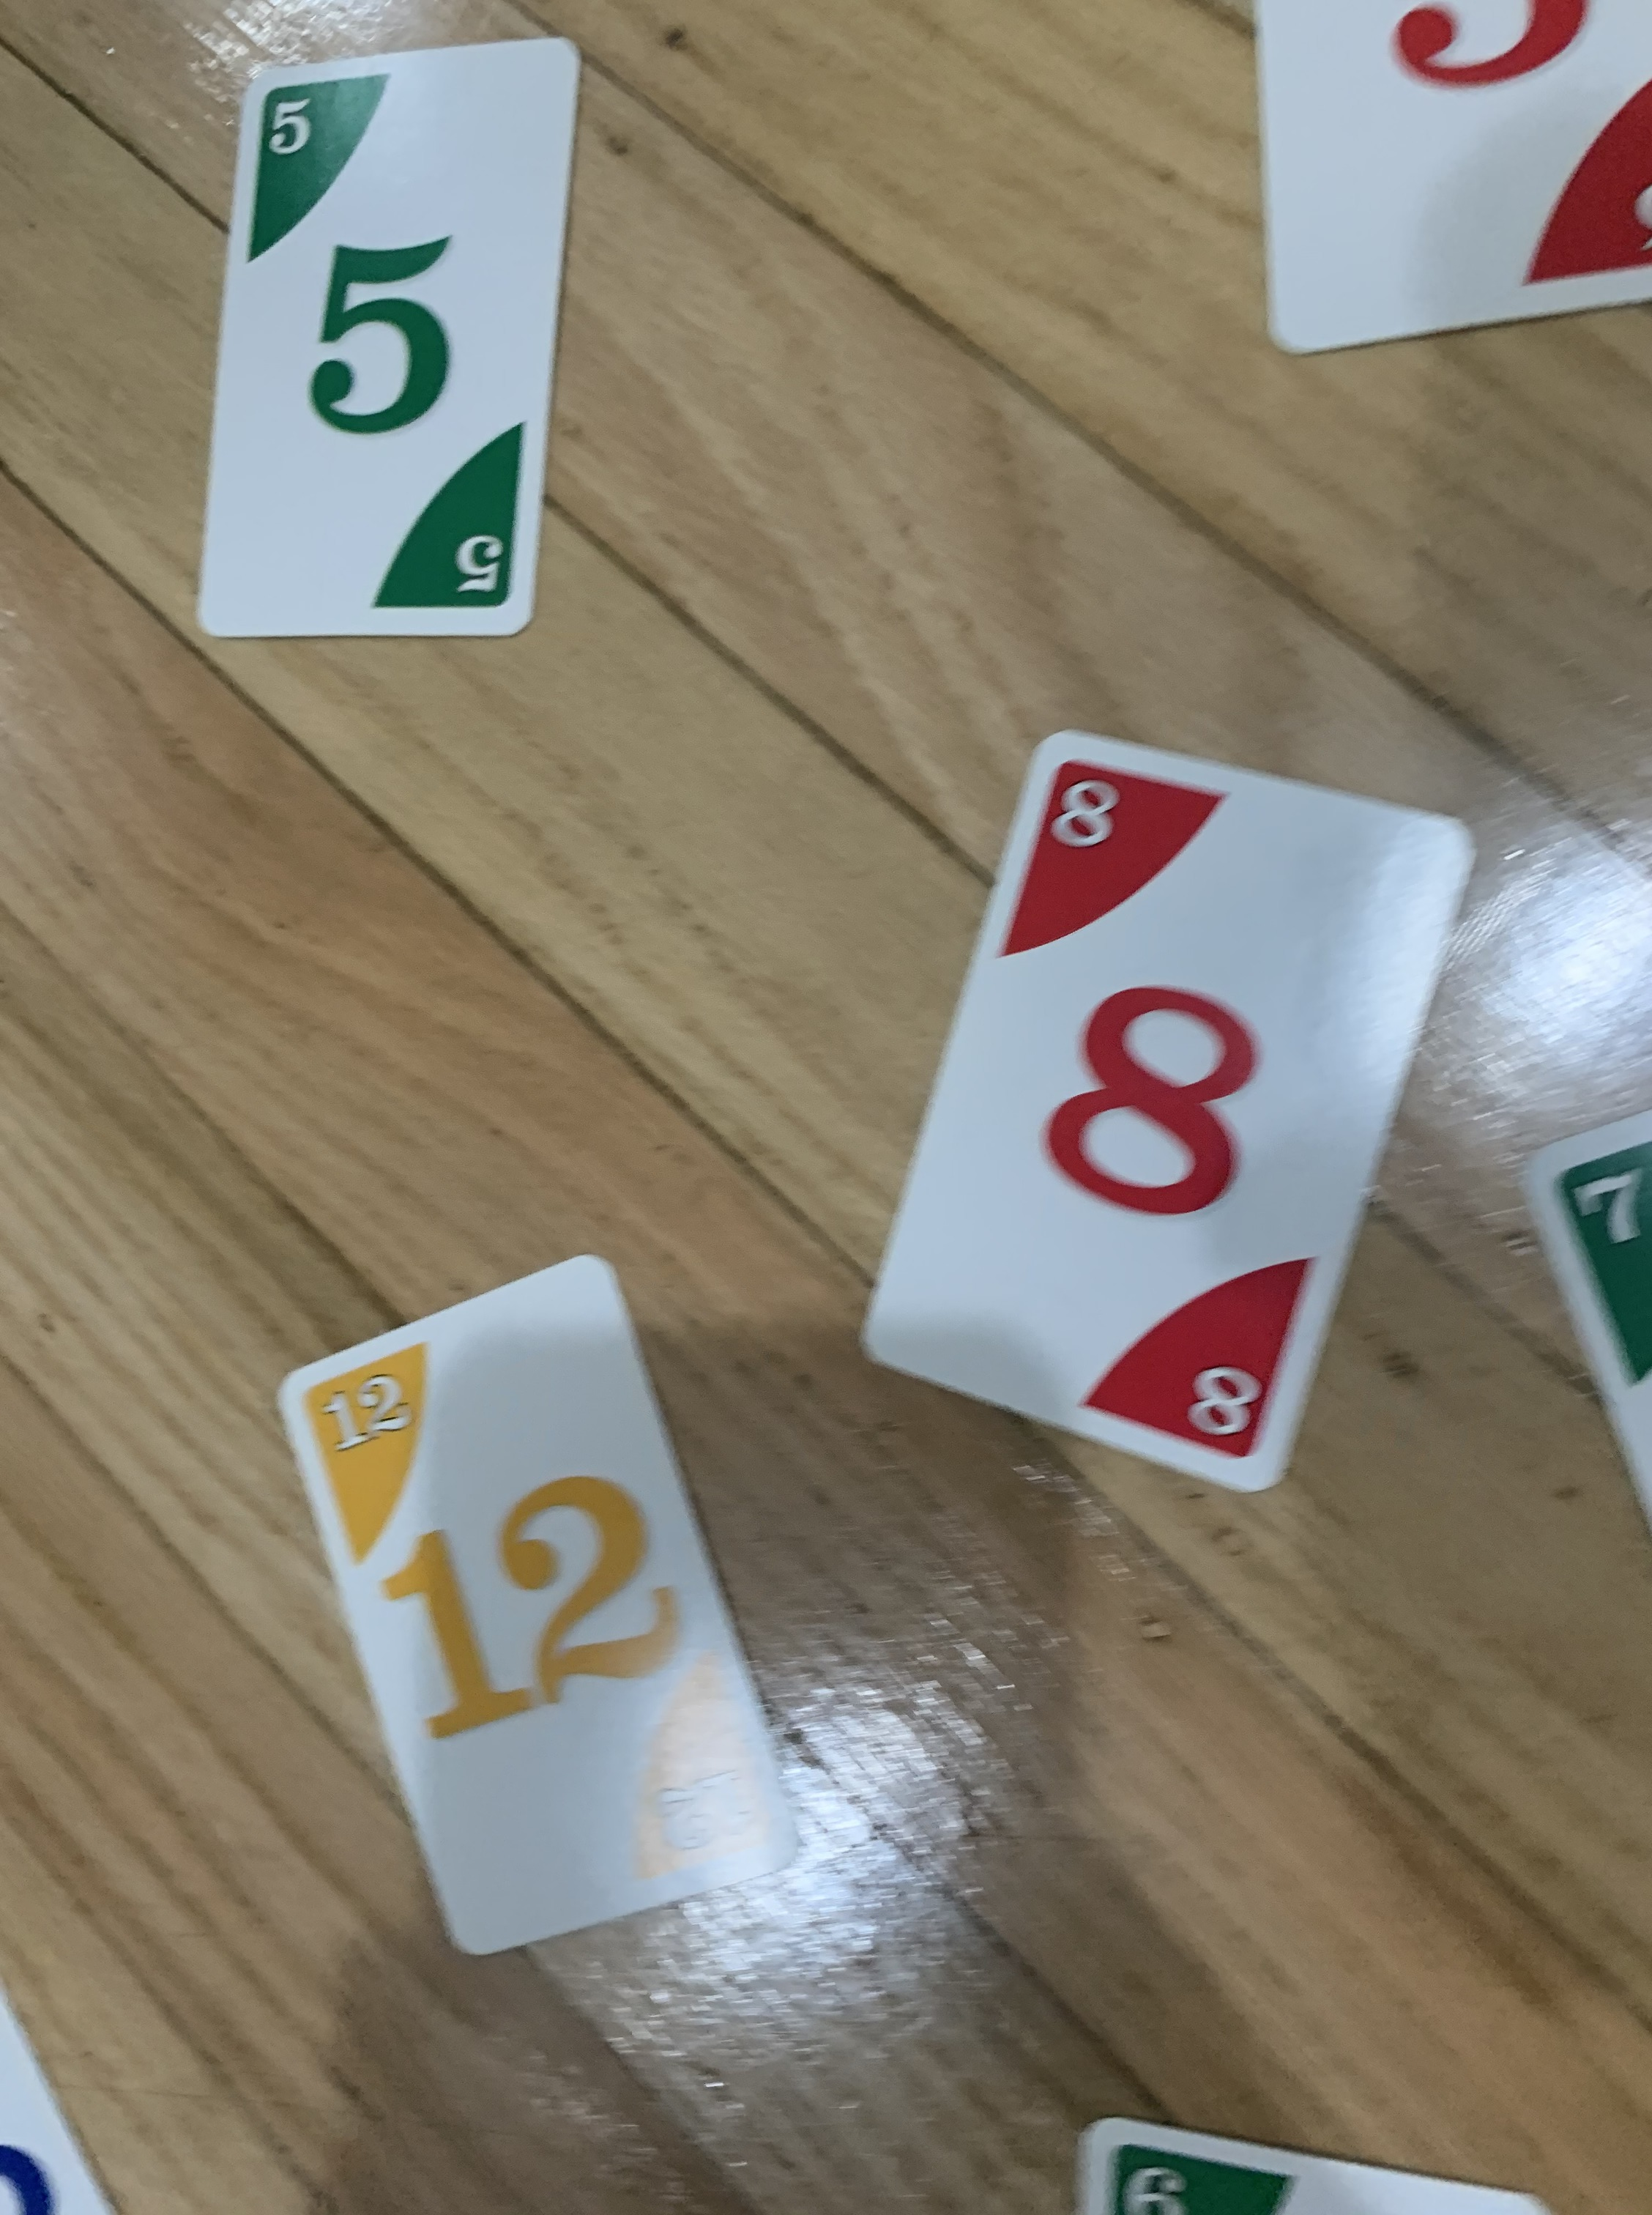eight: (833, 719, 1485, 1510)
five: (186, 23, 587, 646)
twelve: (259, 1243, 809, 1963)
